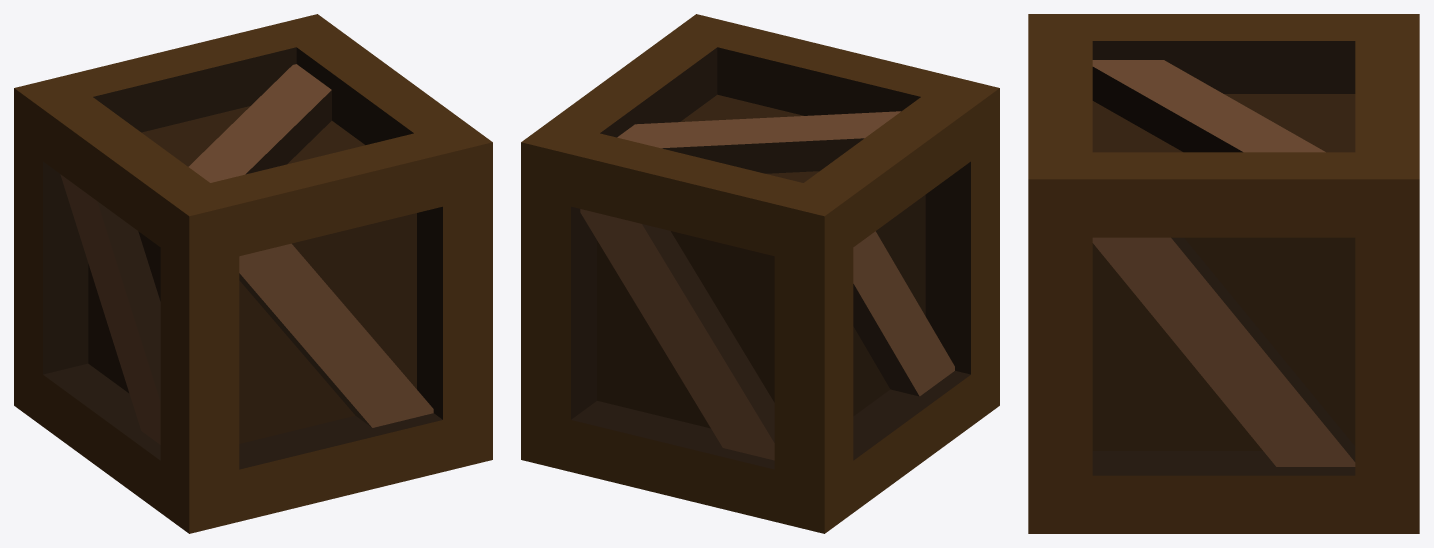
File: wooden_crate.glb
The picture shows the model from 3 angles, left to right: view 1: azimuth 30°, elevation 25°; view 2: azimuth 150°, elevation 25°; view 3: azimuth 270°, elevation 25°; orthographic projection. The views are drawn at different scales.
Visible parts, largest first — view 1: WoodenCrate; view 2: WoodenCrate; view 3: WoodenCrate.
Boxes of the visible parts, bbox=[...] form: WoodenCrate: bbox=[14, 14, 492, 533]; WoodenCrate: bbox=[521, 14, 999, 533]; WoodenCrate: bbox=[1028, 14, 1419, 533].
Size of the model in its own units: 2 by 2 by 2.
1 material, 1 textured.
